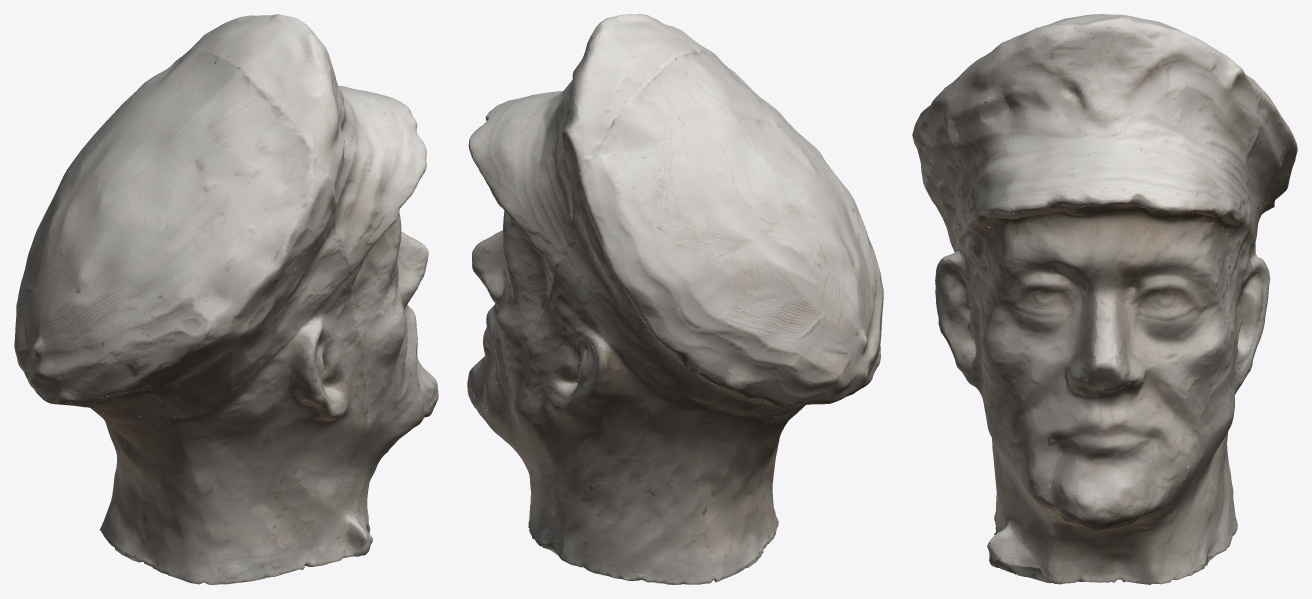
The model's file is mac.glb.
3 views of the same model, side by side, from view 1: azimuth 30°, elevation 25°; view 2: azimuth 150°, elevation 25°; view 3: azimuth 270°, elevation 25° (orthographic). The views are drawn at different scales.
Visible parts, largest first — view 1: Mesh_0_Part_0; view 2: Mesh_0_Part_0; view 3: Mesh_0_Part_0.
Boxes of the visible parts, x1=… form: Mesh_0_Part_0: x1=14, y1=14, x2=438, y2=584; Mesh_0_Part_0: x1=467, y1=14, x2=883, y2=584; Mesh_0_Part_0: x1=912, y1=14, x2=1297, y2=584.
Size of the model in its own units: 1.99 by 2.38 by 1.55.
1 material, 1 textured.
